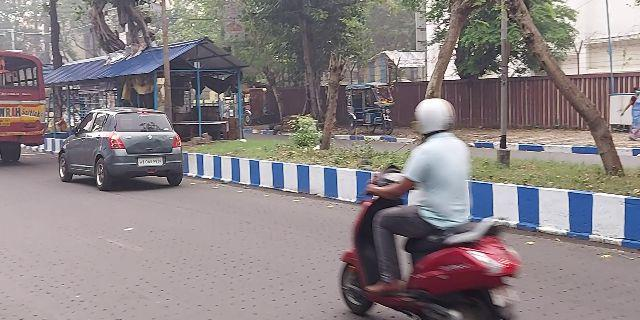Bus: (3, 47, 48, 160)
Car: (54, 107, 190, 191)
Motorbike: (334, 92, 521, 319)
